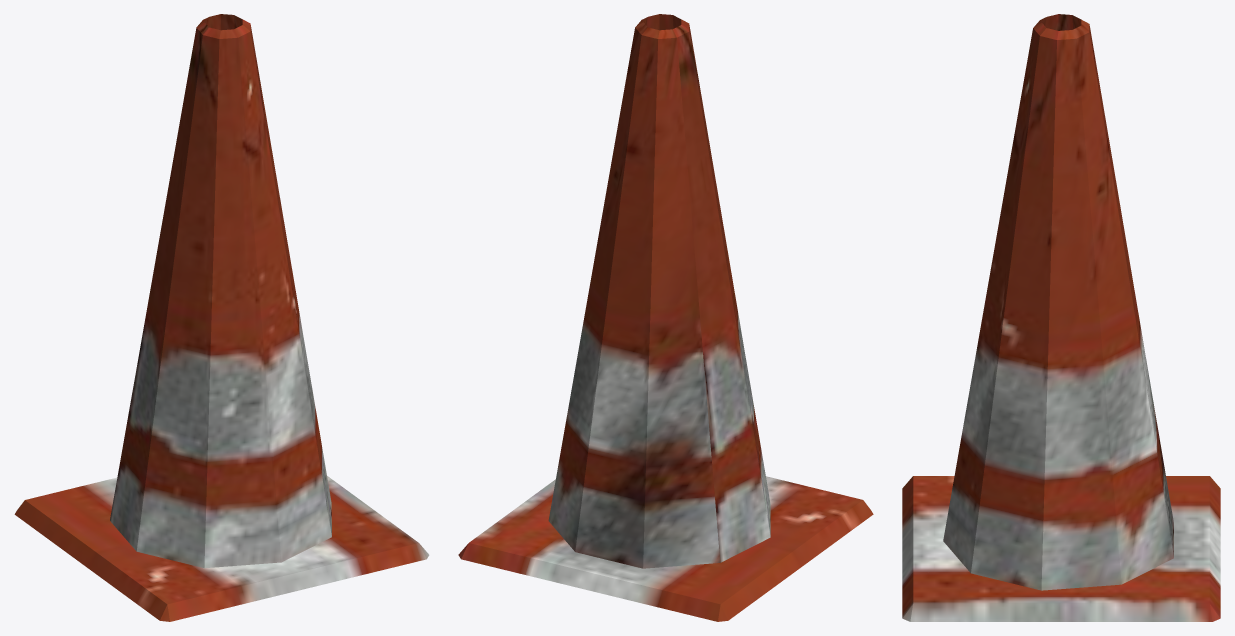
File: Rue_Cone.obj
3 views of the same model, side by side, from view 1: azimuth 30°, elevation 25°; view 2: azimuth 150°, elevation 25°; view 3: azimuth 270°, elevation 25° (orthographic). The views are drawn at different scales.
Visible parts, largest first — view 1: Rue_Cone; view 2: Rue_Cone; view 3: Rue_Cone.
Boxes of the visible parts, bbox=[...] form: Rue_Cone: bbox=[14, 14, 429, 621]; Rue_Cone: bbox=[458, 14, 873, 621]; Rue_Cone: bbox=[902, 14, 1220, 621].
Bounding box in the file's own units: 0.316 × 0.5728 × 0.3102.
1 material, 1 textured.
